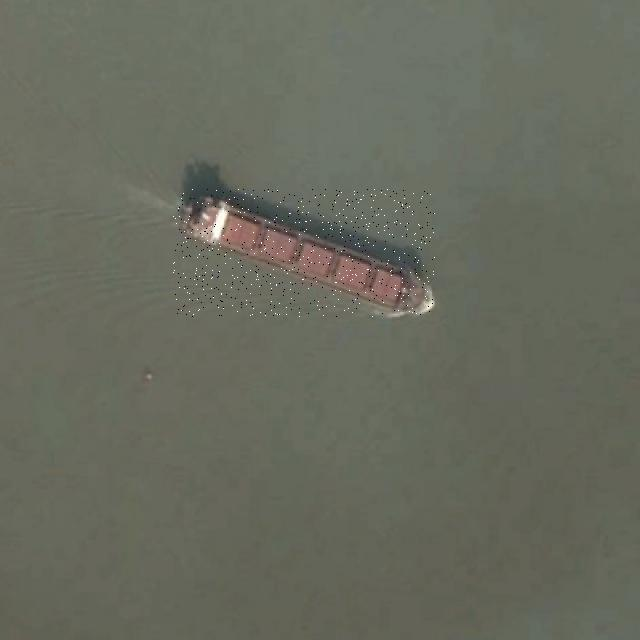boat: (173, 189, 435, 317)
